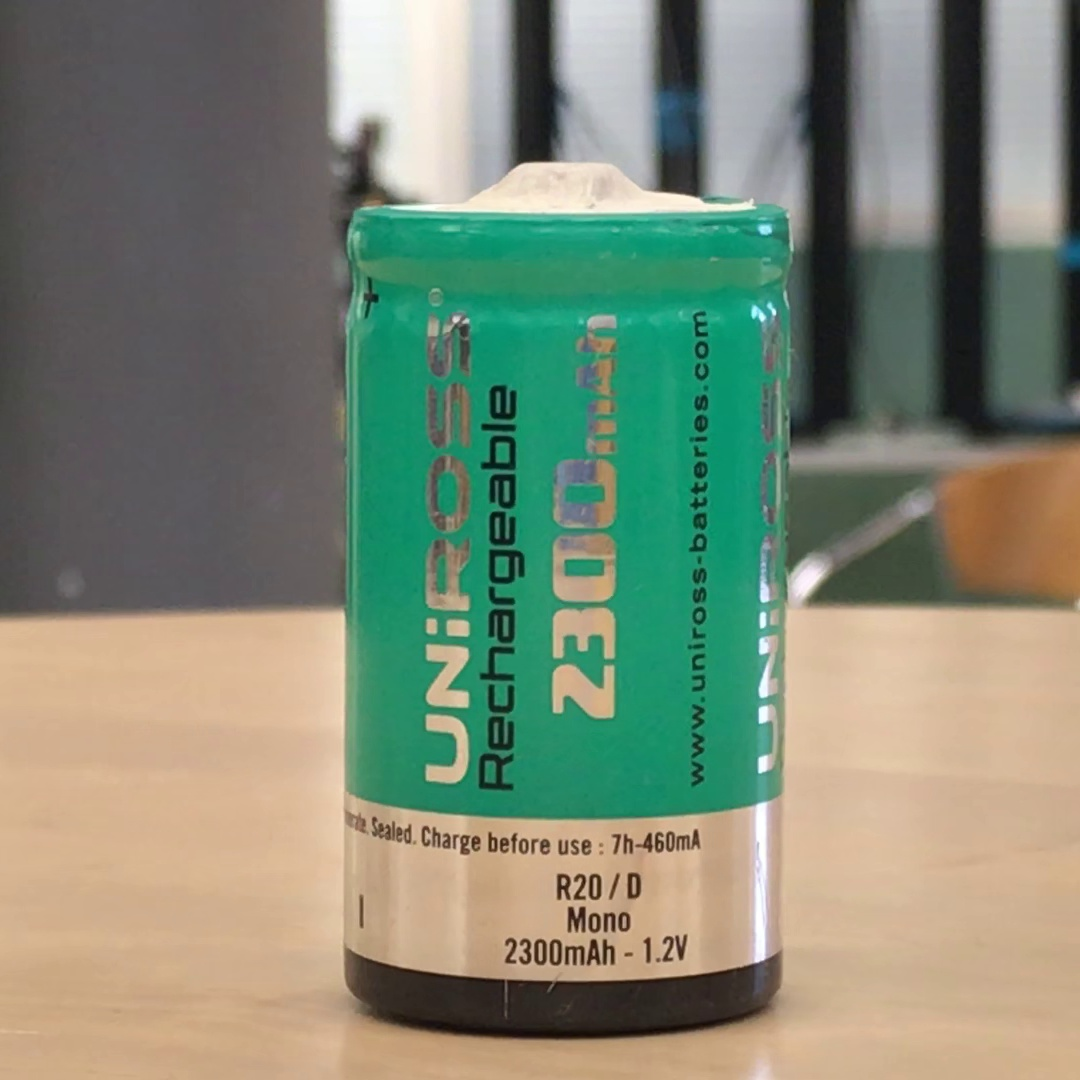keyword: (633, 925, 697, 973)
